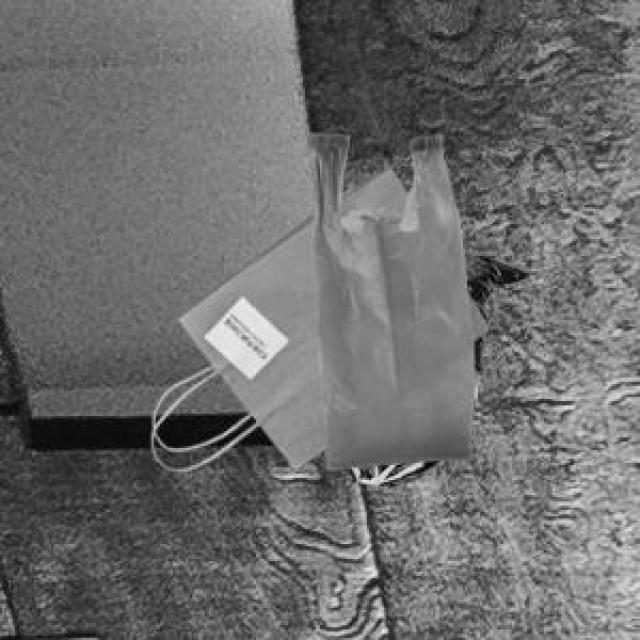miscellaneous trash: (337, 250, 525, 482)
paper: (148, 164, 484, 465)
